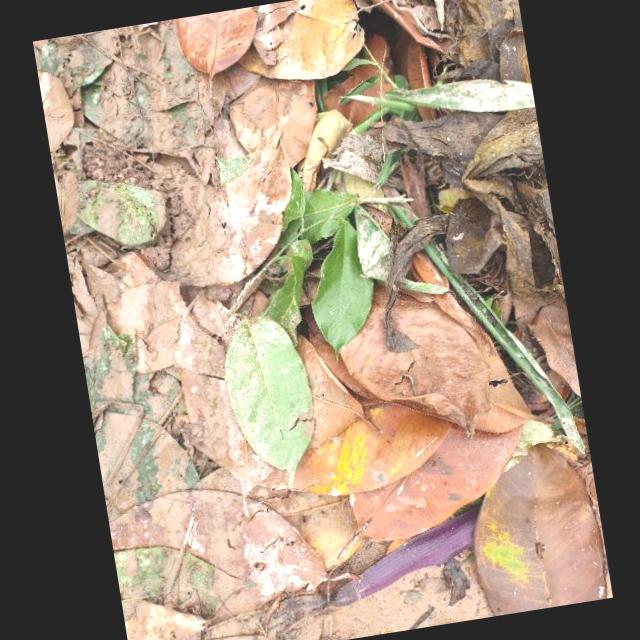la_cay: (384, 111, 566, 326), (424, 241, 585, 456), (109, 497, 328, 640), (338, 284, 535, 437), (180, 298, 295, 517), (472, 445, 610, 617), (352, 429, 522, 544), (163, 153, 294, 295), (292, 407, 454, 498), (225, 318, 317, 473), (84, 264, 186, 375), (212, 63, 318, 169), (62, 154, 170, 249), (237, 0, 365, 80), (312, 214, 376, 355), (325, 35, 408, 128), (278, 167, 358, 251), (174, 6, 259, 81), (391, 80, 536, 115), (268, 250, 315, 347)
